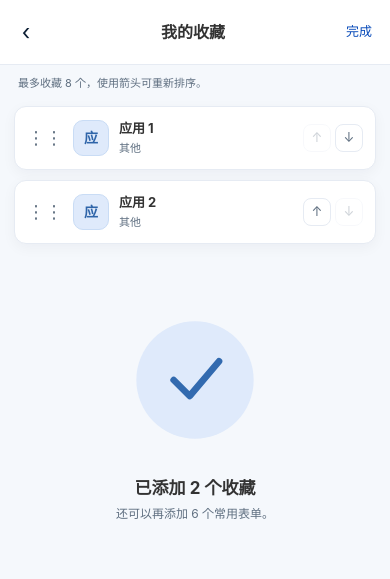
Test: FavoriteAppsPage › retains the draft state when save fails
Check: the text "应用 1" is shown, box x1=119 y1=120 x2=154 y2=136
Click the button "完成": {"x": 359, "y": 32} x1=334 y1=10 x2=384 y2=54
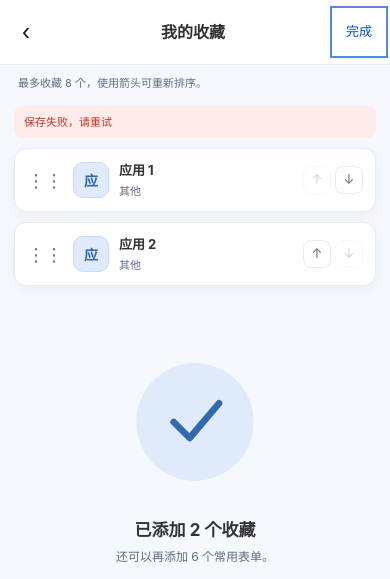
Check: the text "保存失败，请重试" is shown, box x1=14 y1=106 x2=376 y2=138
